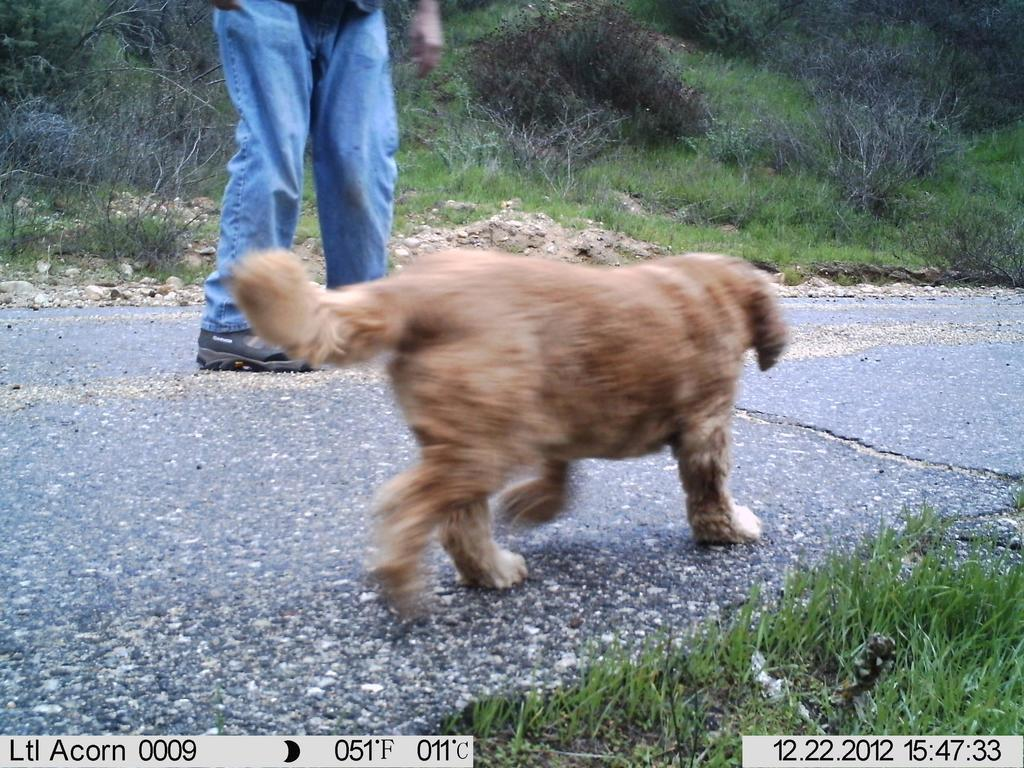dog: (215, 226, 795, 613)
